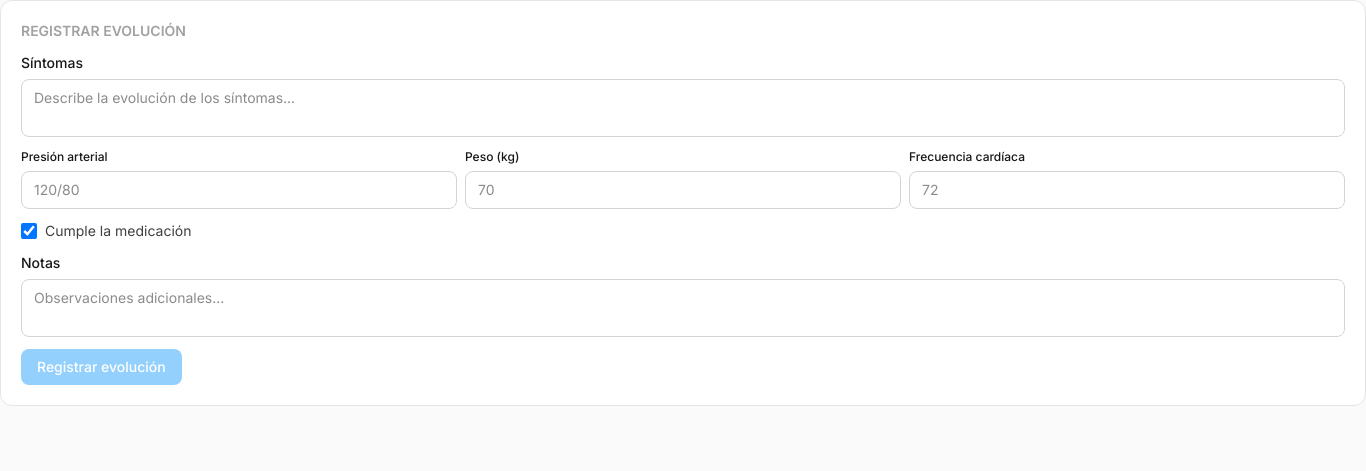
Test: EvolutionForm › muestra error si el servicio falla
Type "Dolor" into the text box labelled "Síntomas" at x=683, y=108, box [21, 79, 1345, 137]
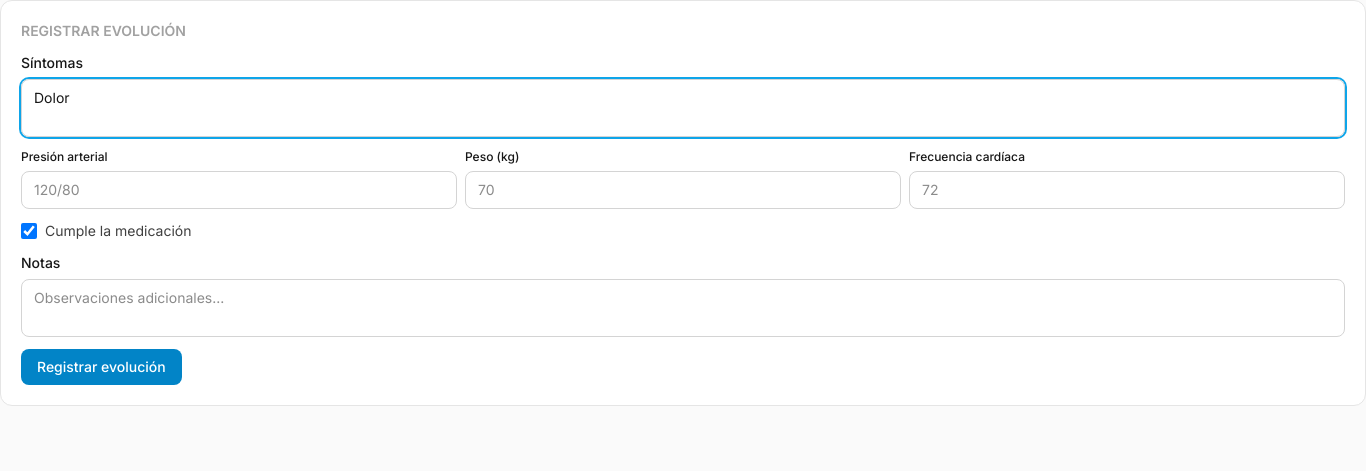
Click the button "Registrar evolución" at x=101, y=367, box [21, 349, 182, 385]
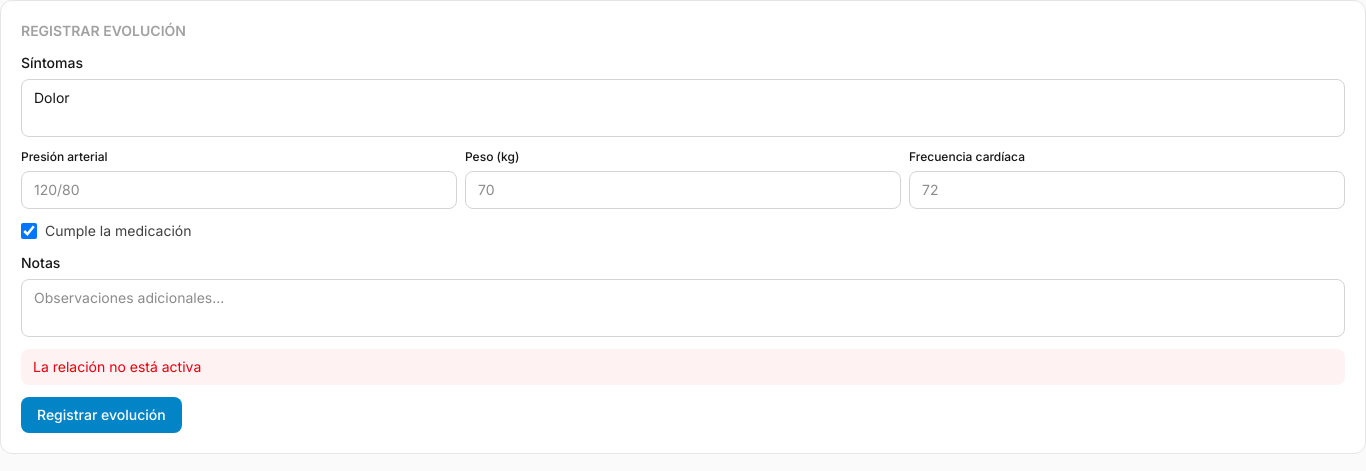
Now the text "La relación no está activa" is shown, box [21, 349, 1345, 385]
